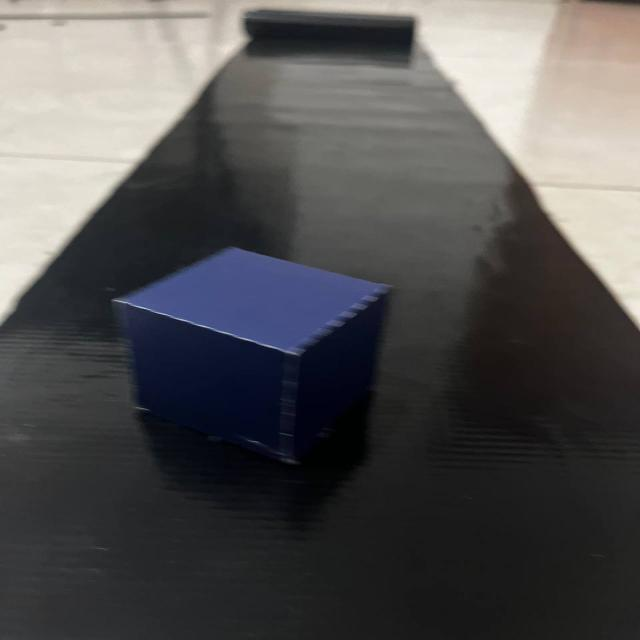Azul: (78, 228, 427, 481)
